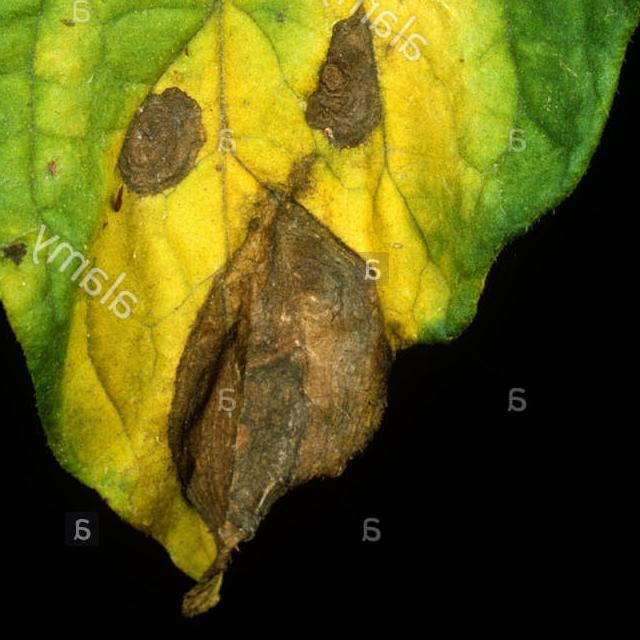Tomato Early blight leaf: (0, 0, 640, 622)
